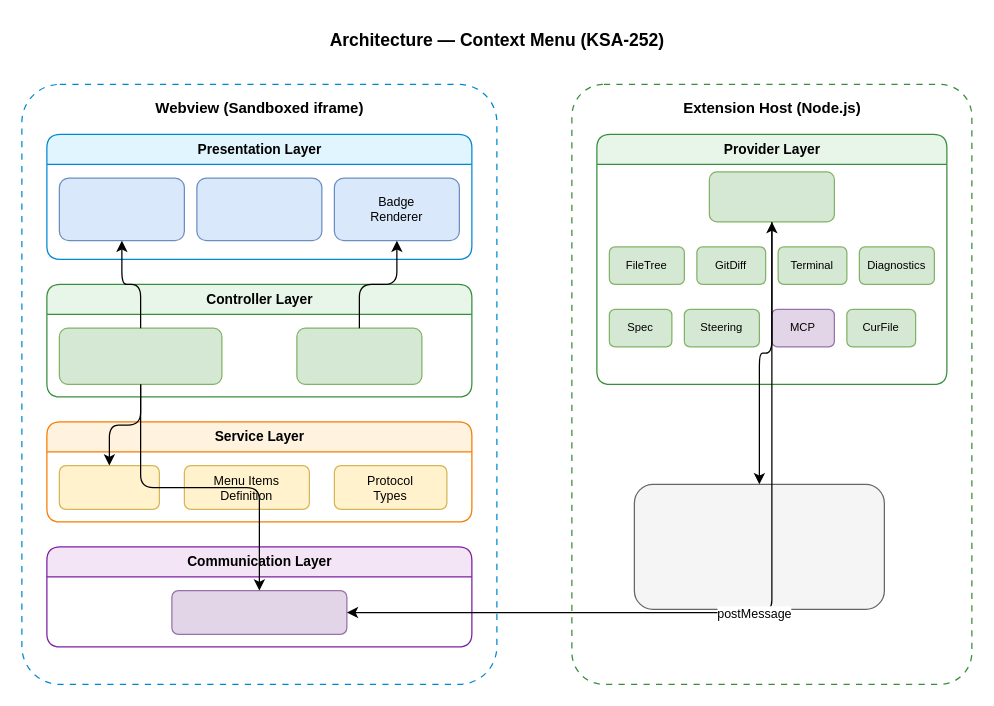
This 994x706 diagram has some shape labels left out. The shapes that lost their labels are listed below. From the top down, each one's centre as x and y in pixels, then its label:
At (x=121, y=209): "ContextMenu View".
At (x=259, y=209): "Picker Panel".
At (x=771, y=196): "Context Resolver".
At (x=140, y=355): "ContextMenu Controller (FSM)".
At (x=359, y=355): "Badge Manager".
At (x=108, y=486): "Fuzzy Filter".
At (x=758, y=546): "VS Code APIs workspace window languages extensions (git)".
At (x=259, y=611): "MessageBridge (postMessage)".
